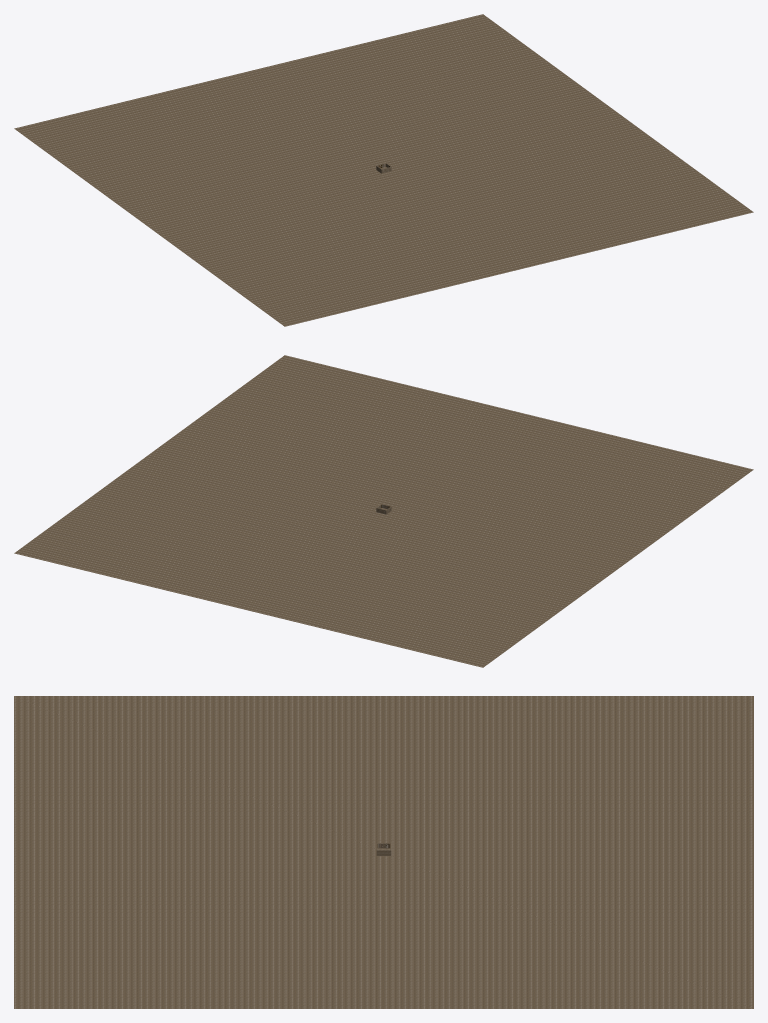
File: caja_para_prueba_instancias.glb
The picture shows the model from 3 angles, top to bottom: view 1: azimuth 30°, elevation 25°; view 2: azimuth 150°, elevation 25°; view 3: azimuth 270°, elevation 25°; orthographic projection. The views are drawn at different scales.
Visible parts, largest first — view 1: caja; view 2: caja; view 3: caja.
Part boxes in pixels (box(x1,y1,x2,y2)): caja: box(14, 14, 753, 326); caja: box(14, 355, 753, 667); caja: box(14, 696, 753, 1008).
Size of the model in its own units: 1315 by 11.12 by 1315.
Materials: 1 (1 with a texture image).
